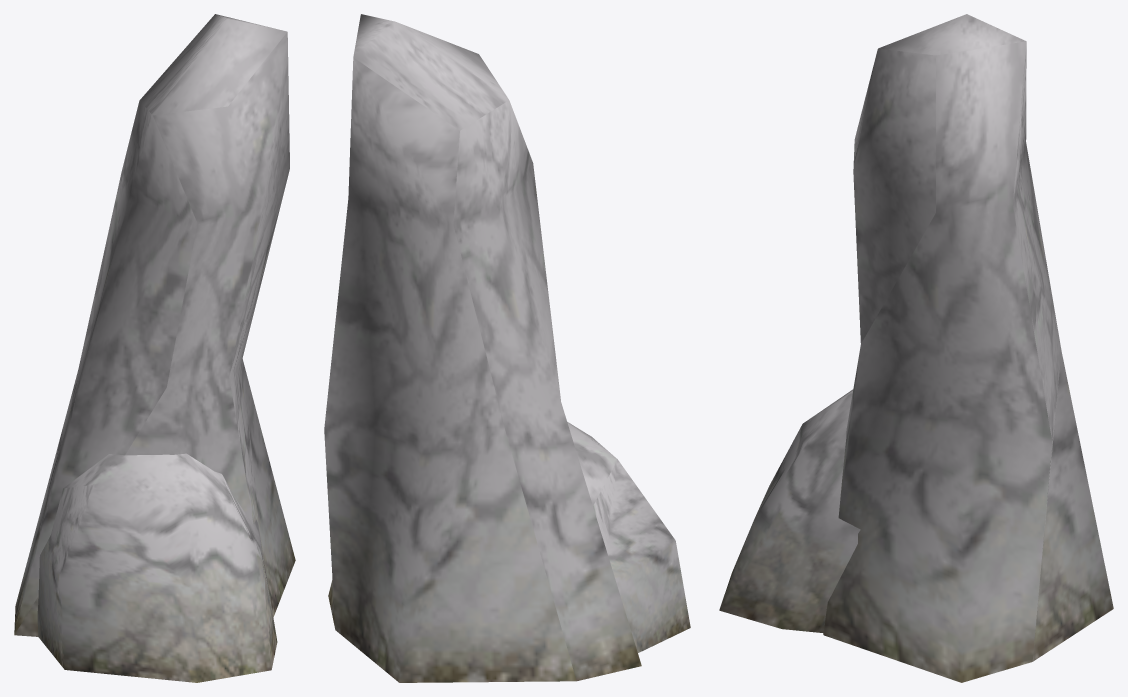
The model's file is general_obj_bigstone03.glb.
The picture shows the model from 3 angles, left to right: view 1: azimuth 30°, elevation 25°; view 2: azimuth 150°, elevation 25°; view 3: azimuth 270°, elevation 25°; orthographic projection. The views are drawn at different scales.
Parts seen in each view (by area): view 1: Sphere01; view 2: Sphere01; view 3: Sphere01.
Part boxes in pixels (left/top/right/bottom): Sphere01: left=14, top=14, right=295, bottom=682; Sphere01: left=324, top=14, right=690, bottom=682; Sphere01: left=719, top=14, right=1113, bottom=682.
Size of the model in its own units: 12.51 by 23.1 by 13.05.
1 material, 1 textured.
